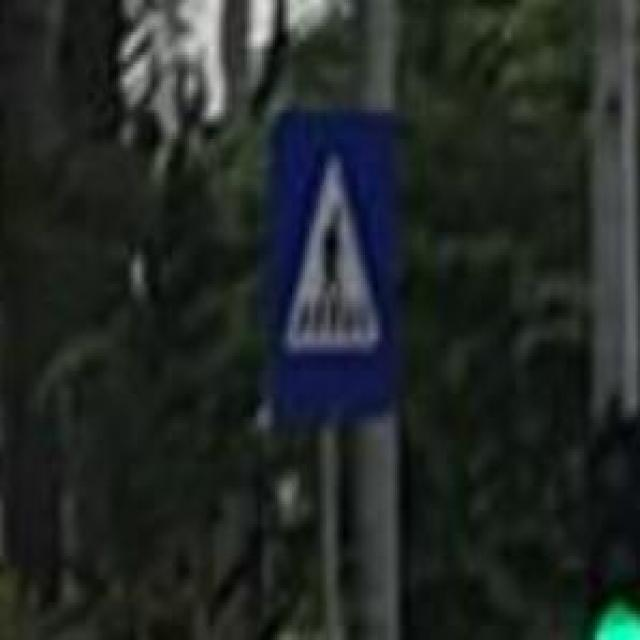traffic sign: (275, 113, 402, 406)
